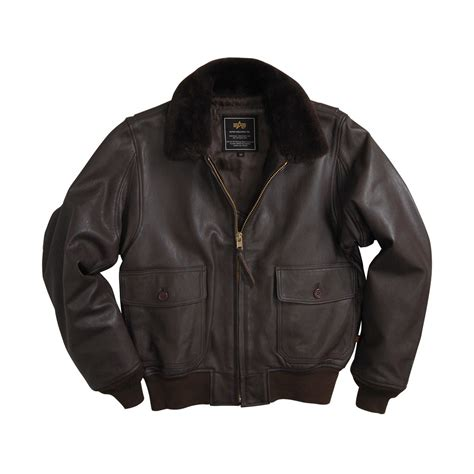cuero: (41, 57, 433, 415)
